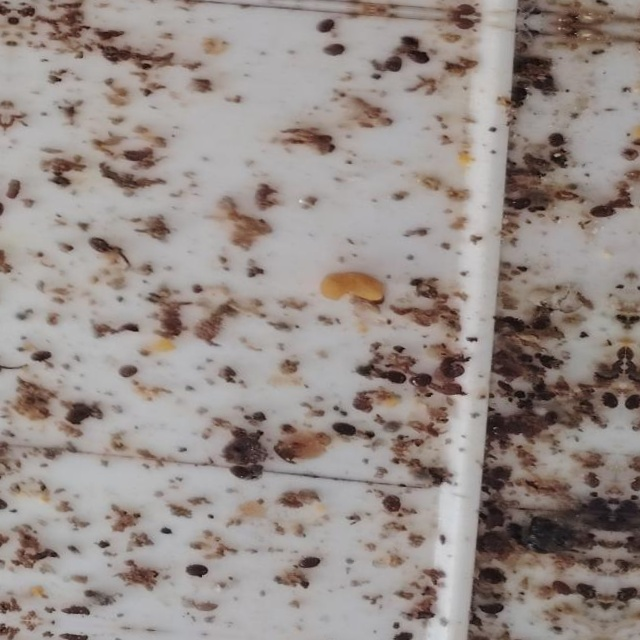varroa: (479, 565, 504, 585), (227, 466, 257, 482), (86, 237, 111, 255), (587, 204, 615, 219), (405, 49, 429, 66), (407, 373, 432, 389), (329, 422, 354, 438), (549, 580, 572, 597), (573, 583, 597, 599), (380, 494, 400, 513), (476, 602, 503, 616), (319, 42, 344, 57), (182, 564, 207, 579), (506, 86, 527, 103), (510, 195, 531, 212), (398, 36, 420, 52), (297, 556, 320, 571), (114, 364, 137, 379), (528, 316, 549, 332), (382, 55, 400, 73), (313, 18, 333, 34), (441, 364, 462, 379), (382, 371, 404, 385), (599, 393, 617, 410), (28, 350, 49, 363), (545, 133, 563, 148), (541, 409, 556, 426)
